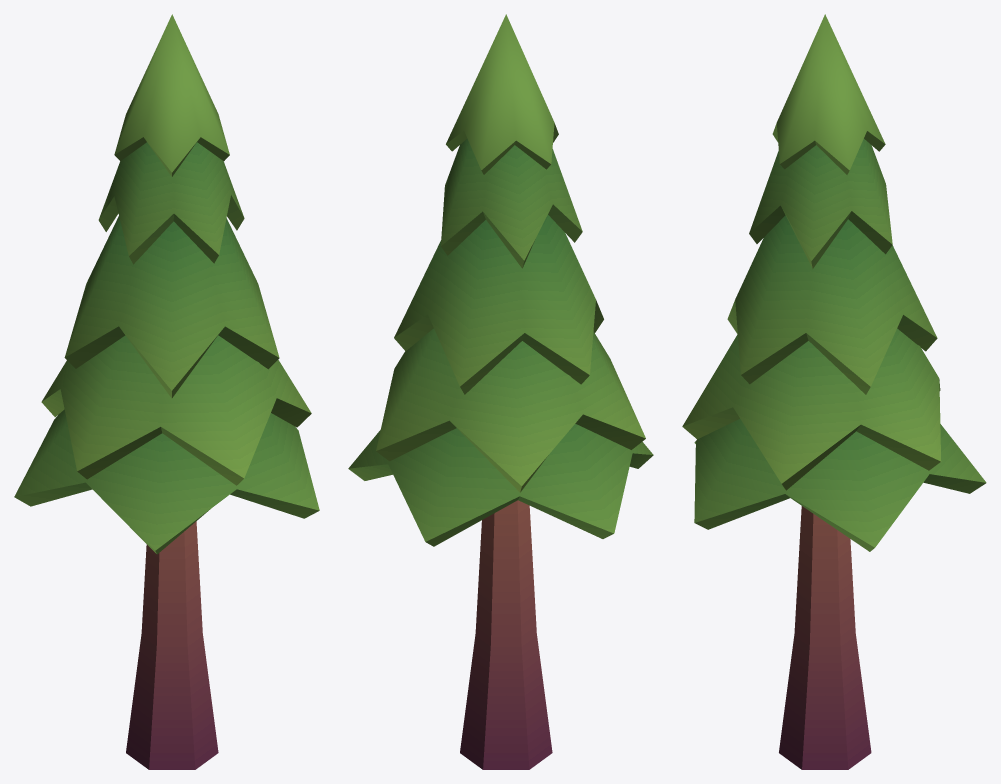
The model's file is TreePine1.fbx.
The picture shows the model from 3 angles, left to right: view 1: azimuth 30°, elevation 25°; view 2: azimuth 150°, elevation 25°; view 3: azimuth 270°, elevation 25°; orthographic projection.
Parts seen in each view (by area): view 1: Cylinder.003; view 2: Cylinder.003; view 3: Cylinder.003.
Part boxes in pixels (bbox=[...]): Cylinder.003: bbox=[14, 14, 319, 769]; Cylinder.003: bbox=[348, 14, 653, 769]; Cylinder.003: bbox=[682, 14, 986, 769].
Size of the model in its own units: 210 by 557 by 208.
